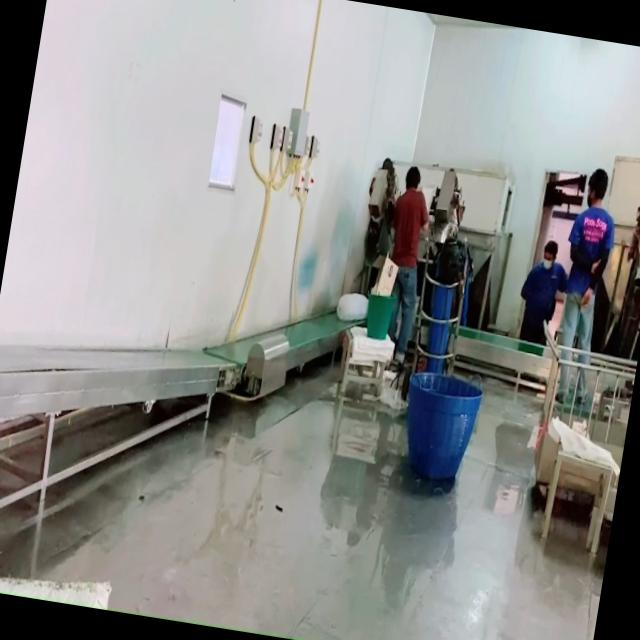ice-bag: (330, 283, 380, 329)
